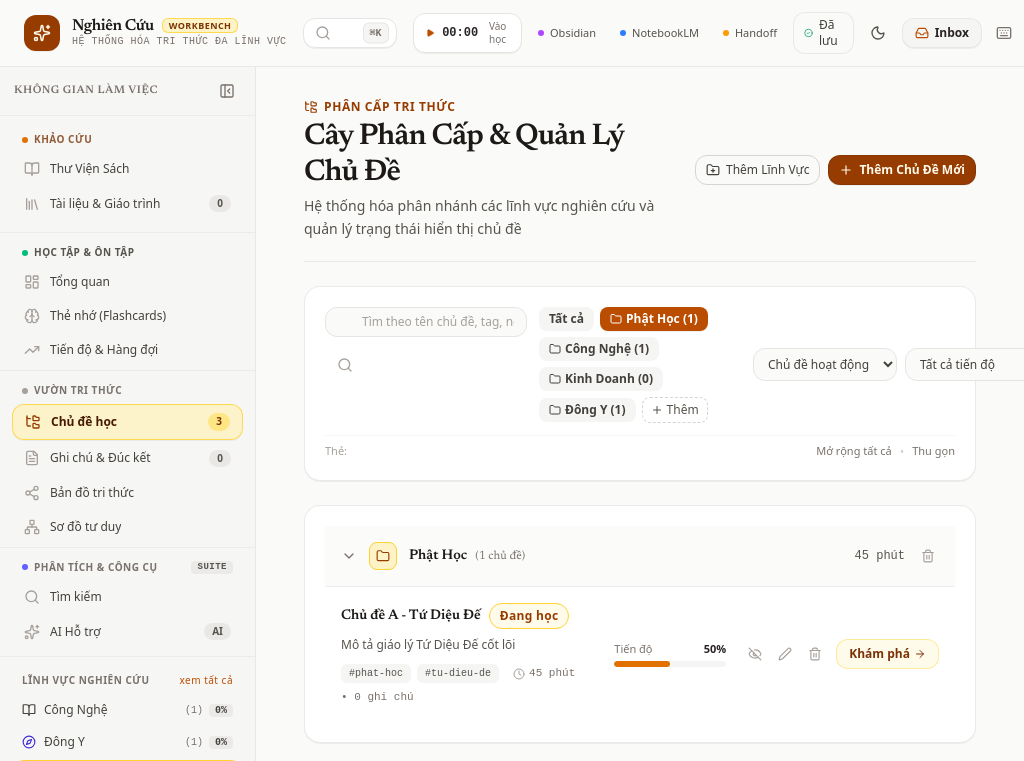
Test: Sidebar Category Navigation Integration Tests (Test-First) › Scenario 5: Chuyển liên tiếp giữa các lĩnh vực
Check: the heading "Cây Phân Cấp & Quản Lý Chủ Đề" is shown, box x1=304 y1=119 x2=679 y2=191
Check: the heading "Chủ đề A - Tứ Diệu Đế" is shown, box x1=341 y1=606 x2=481 y2=626
// When bấm Công Nghệ rồi bấm Đông Y
Click the button "Công Nghệ (1) 0%" at (128, 710), box x1=12 y1=696 x2=243 y2=724
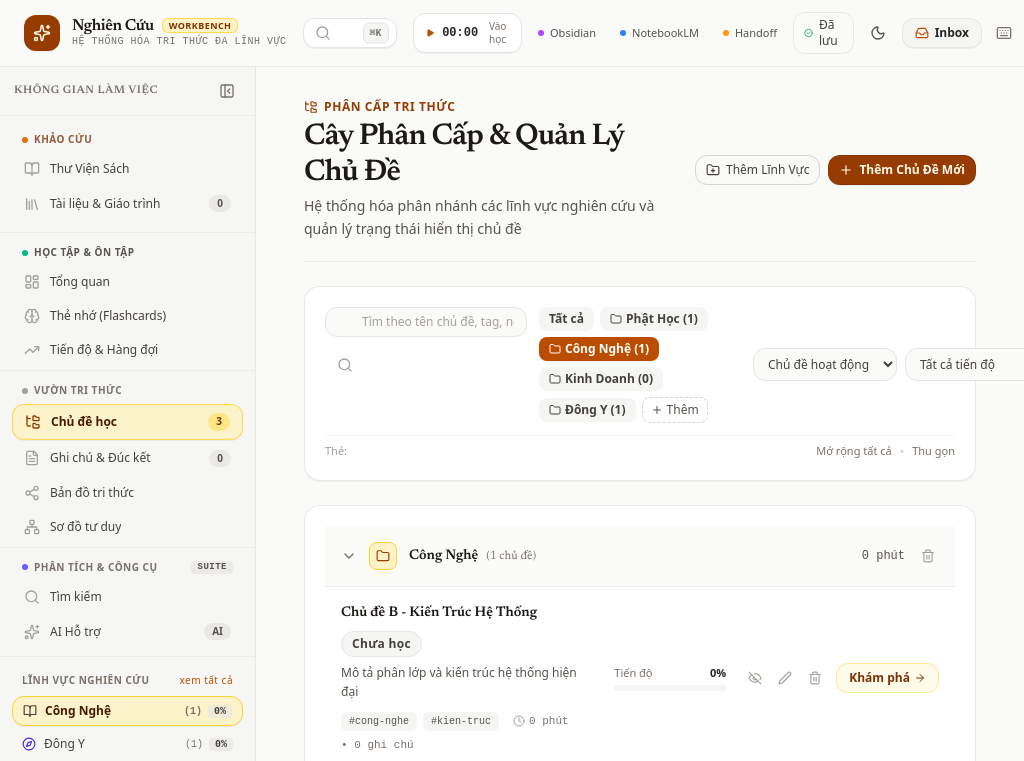
Check: the heading "Chủ đề B - Kiến Trúc Hệ Thống" is shown, box x1=341 y1=602 x2=537 y2=622
Check: the heading "Chủ đề A - Tứ Diệu Đế" is gone
Click the button "Đông Y (1) 0%" at (128, 744), box x1=12 y1=730 x2=243 y2=758
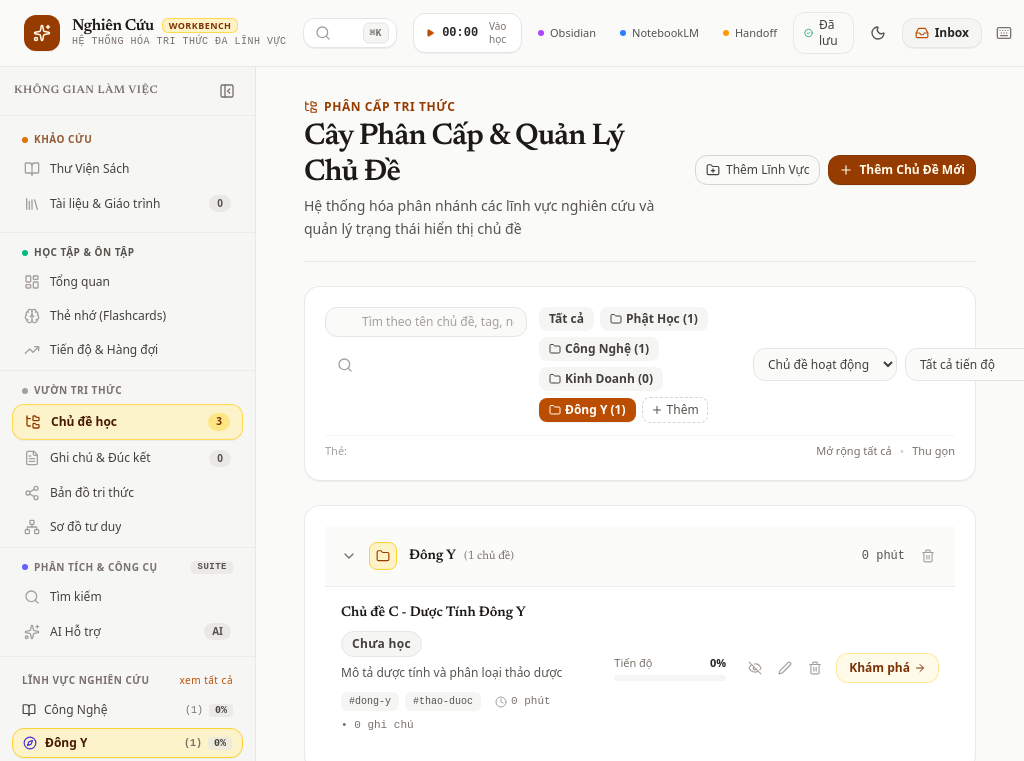
Check: the heading "Chủ đề A - Tứ Diệu Đế" is not shown
Check: the heading "Chủ đề C - Dược Tính Đông Y" is shown, box x1=341 y1=602 x2=526 y2=622
Check: the heading "Chủ đề B - Kiến Trúc Hệ Thống" is gone
